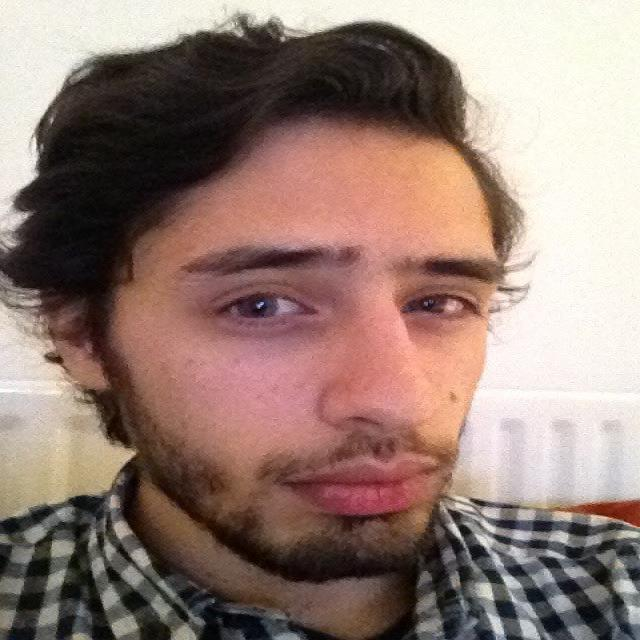earlobe: (44, 290, 111, 392)
